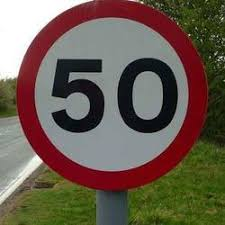sp50: (12, 14, 223, 178)
